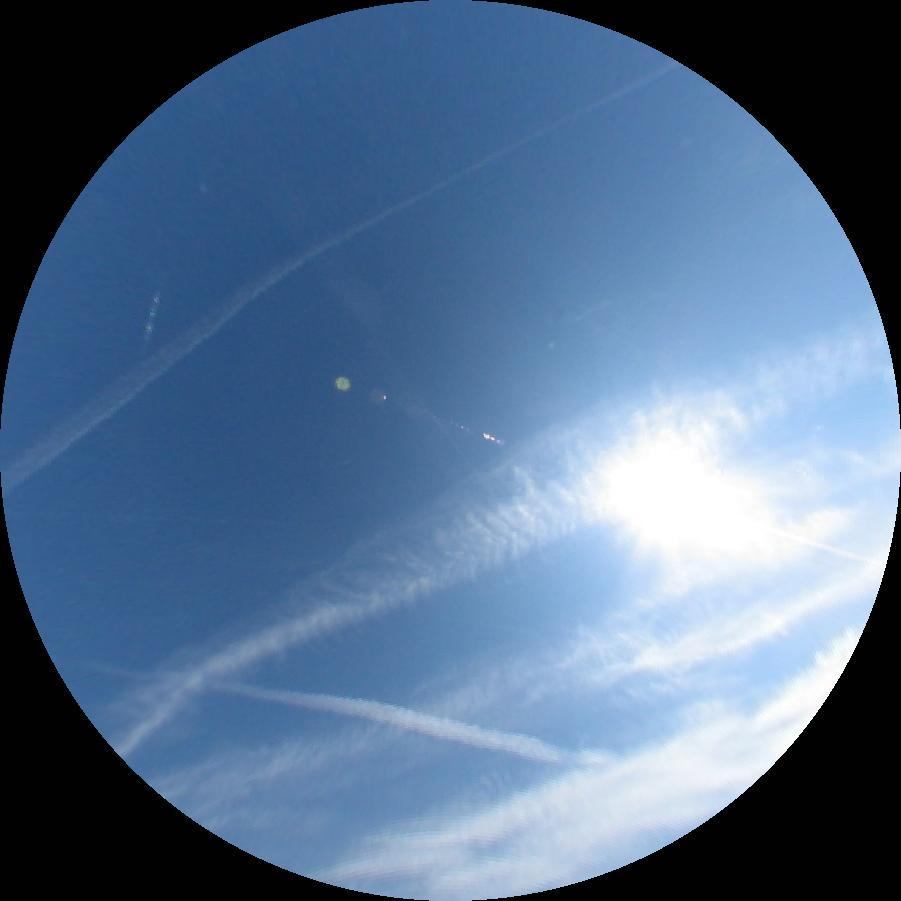contrail old: (87, 646, 615, 772)
contrail veryold: (74, 260, 901, 800)
parasite: (723, 513, 888, 566), (141, 270, 166, 351)
sun: (626, 447, 741, 549)
